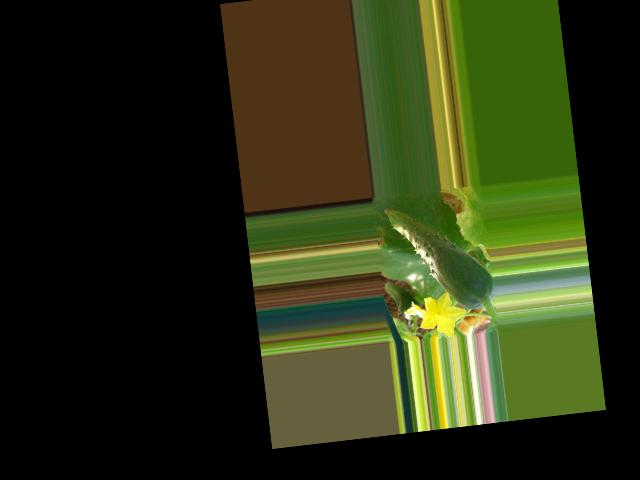cucumber: (383, 197, 496, 318)
